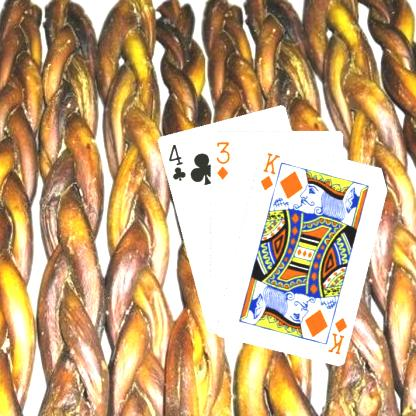3D: (213, 139, 231, 181)
4C: (165, 141, 187, 182)
KD: (257, 150, 281, 192), (325, 314, 349, 356)
